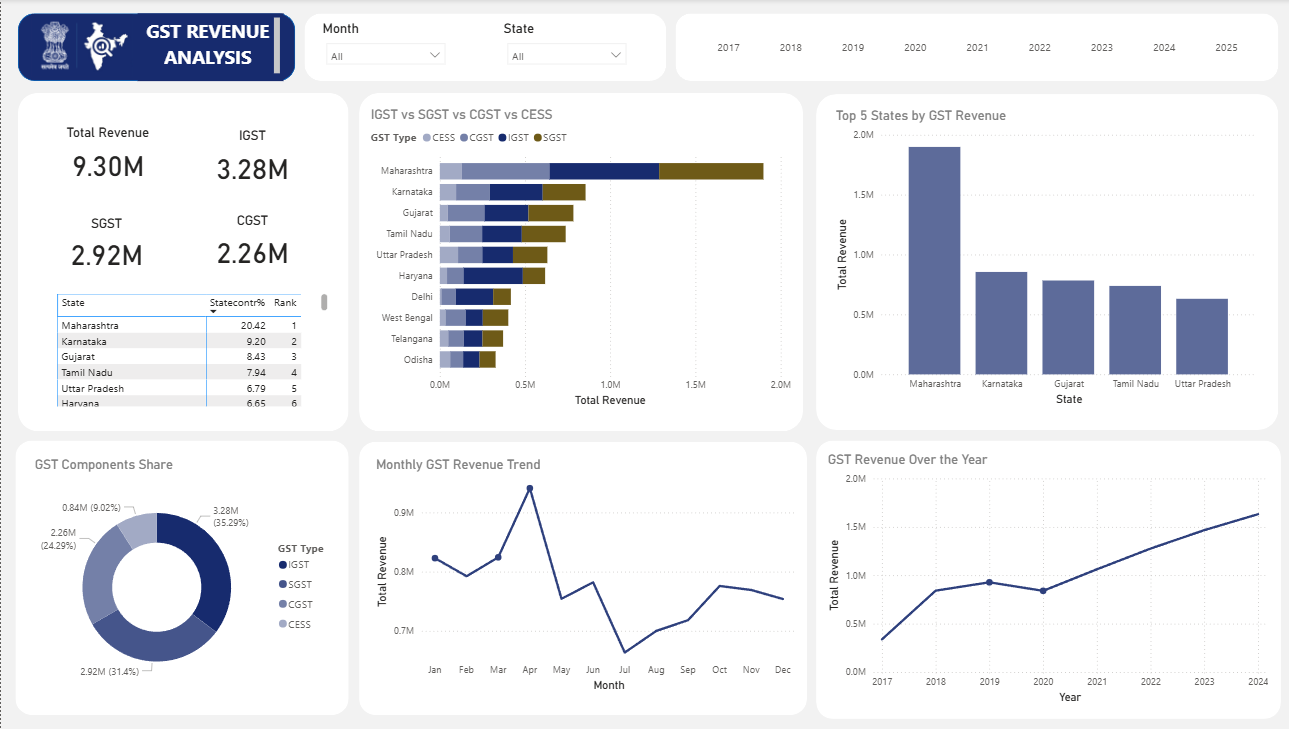

The dashboard page shown, as its layout file describes it:
{"tool":"powerbi","page":{"name":"Page 1","canvas":[1650,940],"ordinal":0},"visuals":[{"type":"shape","box":[21.7,18.3,355,86.7],"z":0},{"type":"shape","box":[18.3,565,426.7,351.7],"z":0,"group":"g3"},{"type":"shape","box":[458.3,566.7,573.3,350],"z":500,"group":"g7"},{"type":"shape","box":[863.3,18.3,771.7,86.7],"z":1000,"group":"g2"},{"type":"shape","box":[21.7,120,423.3,433.3],"z":1000},{"type":"shape","box":[1043.3,121.7,591.7,430],"z":1000,"group":"g8"},{"type":"shape","box":[458.3,120,568.3,433.3],"z":1500,"group":"g6"},{"type":"shape","box":[388.3,18.3,463.3,86.7],"z":2000},{"type":"shape","box":[1043.3,565,595,356.7],"z":2000,"group":"g5"},{"type":"group","id":"g1","title":"Group 1","box":[406.7,28.3,403.3,66.7],"z":3000},{"type":"donutChart","title":"GST Components Share","fields":{"Category":["Revenue collection of goods and services.GST Type"],"Y":["Measure.Total Revenue"]},"box":[37.7,586.7,398.3,313.3],"z":3000,"group":"g3"},{"type":"group","id":"g2","title":"Group 2","box":[863.3,18.3,771.7,86.7],"z":4000},{"type":"group","id":"g3","title":"Group 3","box":[18.3,565,426.7,351.7],"z":5000},{"type":"textbox","box":[175,18.3,186.7,86.7],"z":6000},{"type":"image","box":[33.3,0,140,118.3],"z":7000},{"type":"slicer","fields":{"Values":["Revenue collection of goods and services.FY.Year (Apr-Mar)"]},"box":[866.6,33.3,765,55],"z":7000,"group":"g2"},{"type":"group","id":"g4","title":"Group 6","box":[48.3,151.7,374.4,375],"z":8000},{"type":"group","id":"g5","title":"Group 4","box":[1043.3,565,595,356.7],"z":9000},{"type":"slicer","title":"Month","fields":{"Values":["Revenue collection of goods and services.Month"]},"box":[406.7,28.3,171.7,66.7],"z":9500,"group":"g1"},{"type":"slicer","title":"State","fields":{"Values":["Revenue collection of goods and services.State"]},"box":[638.4,28.3,171.7,55],"z":10000,"group":"g1"},{"type":"group","id":"g6","title":"Group 5","box":[458.3,120,568.3,433.3],"z":10000},{"type":"card","title":"Total Revenue","fields":{"Values":["Measure.Total Revenue"]},"box":[54.6,151.7,163.3,95],"z":10000,"group":"g4"},{"type":"lineChart","title":"GST Revenue Over the Year","fields":{"Category":["Revenue collection of goods and services.Year"],"Y":["Measure.Total Revenue"]},"box":[1053.7,580.8,573.3,326],"z":10000,"group":"g5"},{"type":"card","title":"IGST","fields":{"Values":["Measure.IGST"]},"box":[236.1,155.6,170,95],"z":11000,"group":"g4"},{"type":"group","id":"g7","title":"Group 7","box":[458.3,566.7,573.3,350],"z":11000},{"type":"group","id":"g8","title":"Group 8","box":[1043.3,121.7,591.7,430],"z":12000},{"type":"card","title":"SGST","fields":{"Values":["Measure.SGST"]},"box":[48.3,268.4,173.3,88.3],"z":12000,"group":"g4"},{"type":"columnChart","title":"Top 5 States by GST Revenue","fields":{"Category":["Revenue collection of goods and services.State"],"Y":["Measure.Total Revenue"]},"box":[1063.3,140,548.3,385],"z":13000,"group":"g8"},{"type":"card","title":"CGST","fields":{"Values":["Measure.CGST"]},"box":[234.2,262.8,173.3,95],"z":13000,"group":"g4"},{"type":"pivotTable","fields":{"Rows":["Revenue collection of goods and services.State"],"Values":["Measure.Statecontr%","Measure.Rank"]},"box":[66.1,371.7,356.7,155],"z":14000,"group":"g4"},{"type":"barChart","title":"IGST vs SGST vs CGST vs CESS","fields":{"Category":["Revenue collection of goods and services.State"],"Y":["Measure.Total Revenue"],"Series":["Revenue collection of goods and services.GST Type"]},"box":[467.7,138.3,548.3,388.3],"z":14500,"group":"g6"},{"type":"lineChart","title":"Monthly GST Revenue Trend","fields":{"Category":["Revenue collection of goods and services.Month"],"Y":["Measure.Total Revenue"]},"box":[474.4,586.8,546.7,304.4],"z":15001,"group":"g7"}]}

Visuals, with their boxes in screenshot pixels (x1, y1, x2, y2), scaled from the page's 1650x940 canvas onto the 1289x729 screenshot:
shape: box=[17, 14, 294, 81]
shape: box=[14, 438, 348, 711]
shape: box=[358, 439, 806, 711]
shape: box=[674, 14, 1277, 81]
shape: box=[17, 93, 348, 429]
shape: box=[815, 94, 1277, 428]
shape: box=[358, 93, 802, 429]
shape: box=[303, 14, 665, 81]
shape: box=[815, 438, 1280, 715]
"Group 1" group: box=[318, 22, 633, 74]
"GST Components Share" donutChart: box=[29, 455, 341, 698]
"Group 2" group: box=[674, 14, 1277, 81]
"Group 3" group: box=[14, 438, 348, 711]
textbox: box=[137, 14, 283, 81]
image: box=[26, 0, 135, 92]
slicer - Revenue collection of goods and services.FY.Year (Apr-Mar): box=[677, 26, 1275, 68]
"Group 6" group: box=[38, 118, 330, 408]
"Group 4" group: box=[815, 438, 1280, 715]
"Month" slicer: box=[318, 22, 452, 74]
"State" slicer: box=[499, 22, 633, 65]
"Group 5" group: box=[358, 93, 802, 429]
"Total Revenue" card: box=[43, 118, 170, 191]
"GST Revenue Over the Year" lineChart: box=[823, 450, 1271, 703]
"IGST" card: box=[184, 121, 317, 194]
"Group 7" group: box=[358, 439, 806, 711]
"Group 8" group: box=[815, 94, 1277, 428]
"SGST" card: box=[38, 208, 173, 277]
"Top 5 States by GST Revenue" columnChart: box=[831, 109, 1259, 407]
"CGST" card: box=[183, 204, 318, 277]
pivotTable - Revenue collection of goods and services.State x Measure.Statecontr%: box=[52, 288, 330, 408]
"IGST vs SGST vs CGST vs CESS" barChart: box=[365, 107, 794, 408]
"Monthly GST Revenue Trend" lineChart: box=[371, 455, 798, 691]
